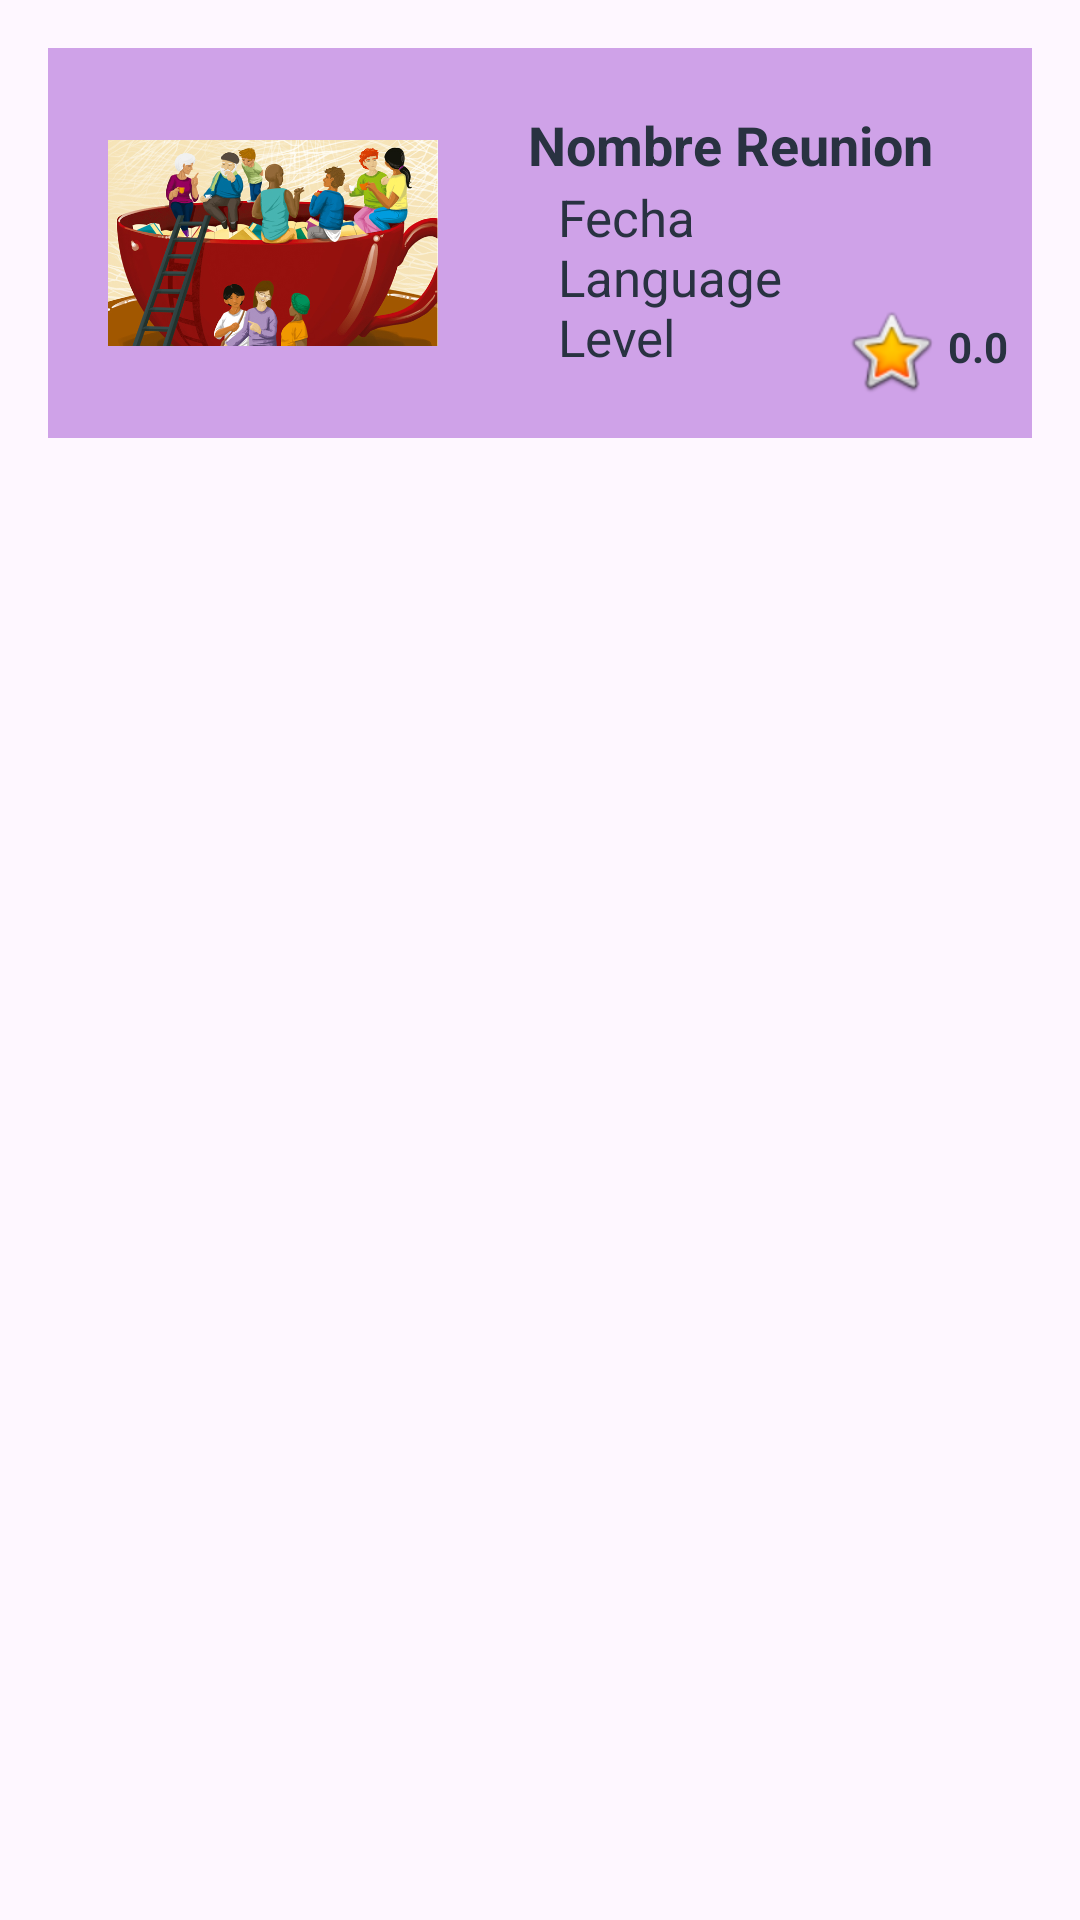

Named icons in this screenshot (1080w x 1920h) and their bounding boxes, bbox=[x1, y1, x2, y2]:
grupo: bbox=[108, 140, 438, 346]
star on: bbox=[852, 313, 932, 391]
